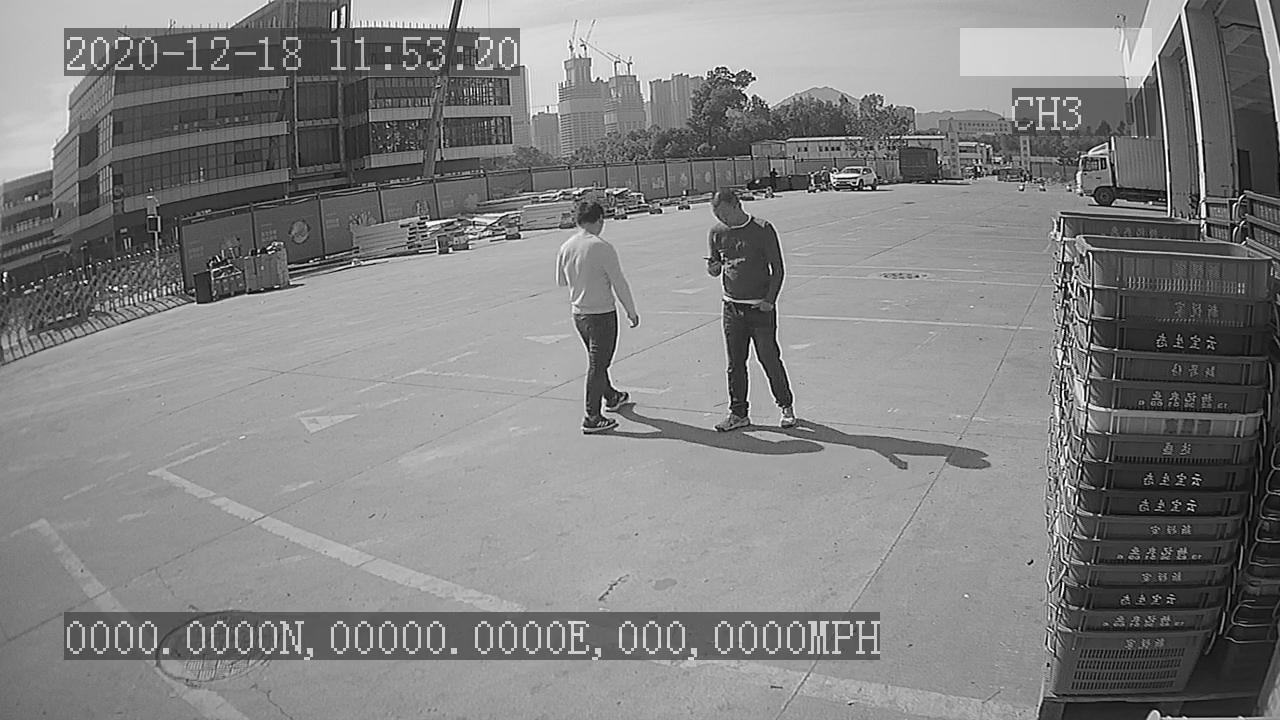person: (693, 185, 811, 435), (549, 195, 643, 442)
